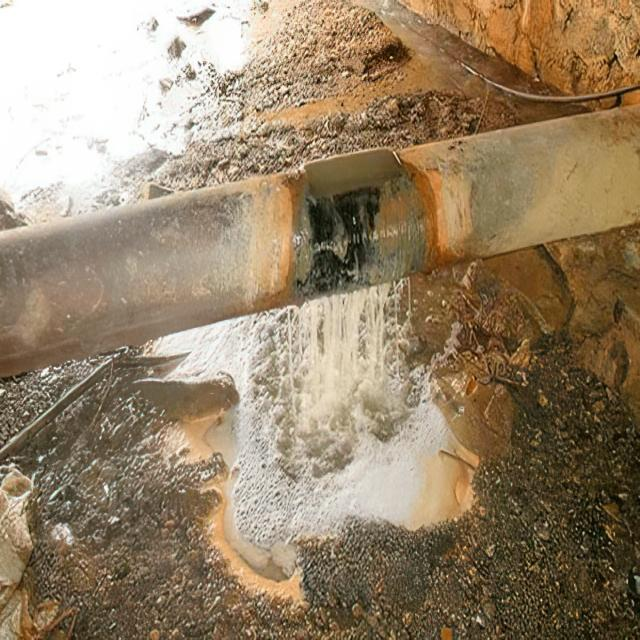leak: (274, 282, 408, 479)
